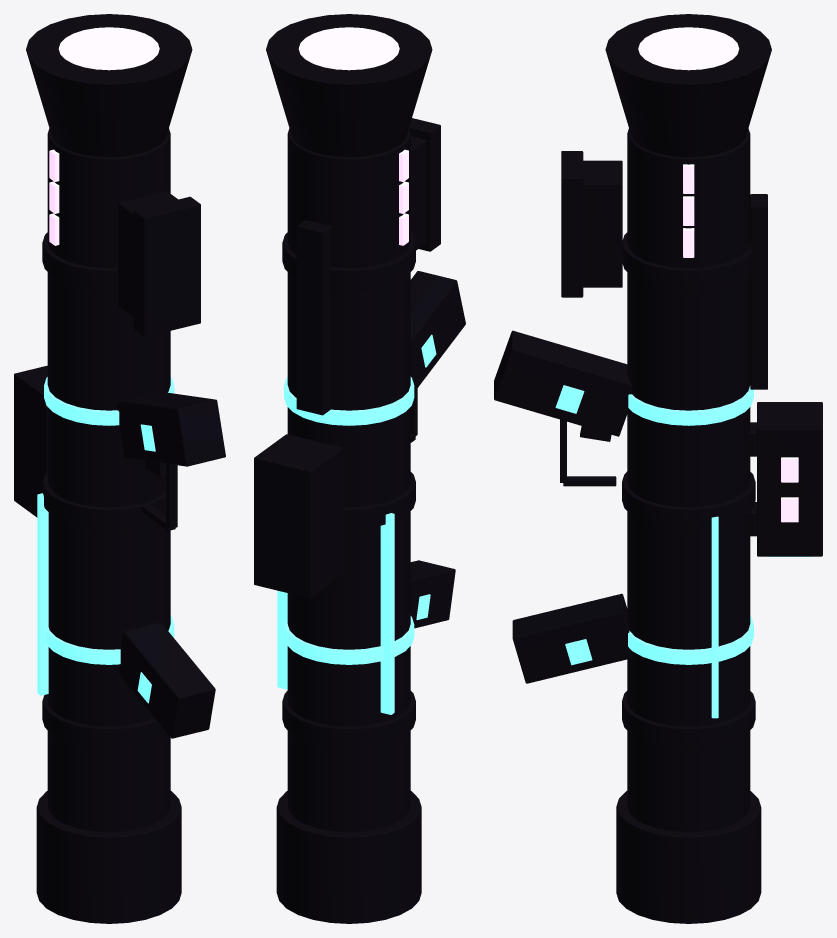
Rendered from CyberNovaLauncher.fbx.
3 renders of one model, left to right at view 1: azimuth 30°, elevation 25°; view 2: azimuth 150°, elevation 25°; view 3: azimuth 270°, elevation 25°, orthographic.
Parts seen in each view (by area): view 1: CNL_main launch tube, CNL_rear exhaust bell, CNL_front armor collar, CNL_shoulder rest pad, CNL_tube reinforce bands, CNL_front handgrip, CNL_pistol grip, CNL_targeting optics housing, CNL_magenta exhaust glow ring, CNL_cyan tube charge rings, CNL_cyan side rail strips, CNL_shoulder rest cradle (+2 smaller); view 2: CNL_main launch tube, CNL_rear exhaust bell, CNL_front armor collar, CNL_targeting optics housing, CNL_tube reinforce bands, CNL_top carry rail, CNL_pistol grip, CNL_cyan tube charge rings, CNL_cyan side rail strips, CNL_magenta exhaust glow ring, CNL_front handgrip, CNL_shoulder rest pad (+2 smaller); view 3: CNL_main launch tube, CNL_rear exhaust bell, CNL_front armor collar, CNL_tube reinforce bands, CNL_targeting optics housing, CNL_pistol grip, CNL_front handgrip, CNL_shoulder rest cradle, CNL_cyan tube charge rings, CNL_top carry rail, CNL_magenta exhaust glow ring, CNL_shoulder rest pad (+4 smaller).
Boxes of the visible parts, bbox=[...] form: CNL_main launch tube: bbox=[47, 128, 170, 831]; CNL_rear exhaust bell: bbox=[26, 14, 192, 157]; CNL_front armor collar: bbox=[36, 791, 181, 923]; CNL_shoulder rest pad: bbox=[134, 196, 200, 336]; CNL_tube reinforce bands: bbox=[42, 232, 167, 748]; CNL_front handgrip: bbox=[118, 622, 215, 738]; CNL_pistol grip: bbox=[117, 391, 225, 466]; CNL_targeting optics housing: bbox=[14, 365, 47, 517]; CNL_magenta exhaust glow ring: bbox=[58, 27, 159, 70]; CNL_cyan tube charge rings: bbox=[44, 377, 174, 664]; CNL_cyan side rail strips: bbox=[37, 493, 48, 695]; CNL_shoulder rest cradle: bbox=[118, 191, 177, 317]; CNL_main launch tube: bbox=[287, 128, 410, 831]; CNL_rear exhaust bell: bbox=[266, 14, 432, 157]; CNL_front armor collar: bbox=[276, 791, 421, 923]; CNL_targeting optics housing: bbox=[254, 434, 343, 598]; CNL_tube reinforce bands: bbox=[282, 232, 415, 748]; CNL_top carry rail: bbox=[296, 220, 331, 415]; CNL_pistol grip: bbox=[410, 271, 465, 391]; CNL_cyan tube charge rings: bbox=[284, 377, 414, 664]; CNL_cyan side rail strips: bbox=[277, 513, 394, 714]; CNL_magenta exhaust glow ring: bbox=[298, 27, 399, 70]; CNL_front handgrip: bbox=[410, 560, 455, 628]; CNL_shoulder rest pad: bbox=[409, 118, 440, 251]; CNL_main launch tube: bbox=[627, 128, 750, 832]; CNL_rear exhaust bell: bbox=[605, 14, 771, 157]; CNL_front armor collar: bbox=[616, 791, 761, 923]; CNL_tube reinforce bands: bbox=[622, 232, 755, 748]; CNL_targeting optics housing: bbox=[757, 402, 822, 556]; CNL_pistol grip: bbox=[494, 330, 632, 436]; CNL_front handgrip: bbox=[512, 593, 631, 683]; CNL_shoulder rest cradle: bbox=[583, 160, 622, 287]; CNL_cyan tube charge rings: bbox=[628, 385, 753, 664]; CNL_top carry rail: bbox=[750, 194, 767, 389]; CNL_magenta exhaust glow ring: bbox=[638, 27, 739, 70]; CNL_shoulder rest pad: bbox=[561, 151, 583, 297].
Size of the model in its own units: 37.87 by 213 by 74.76.
